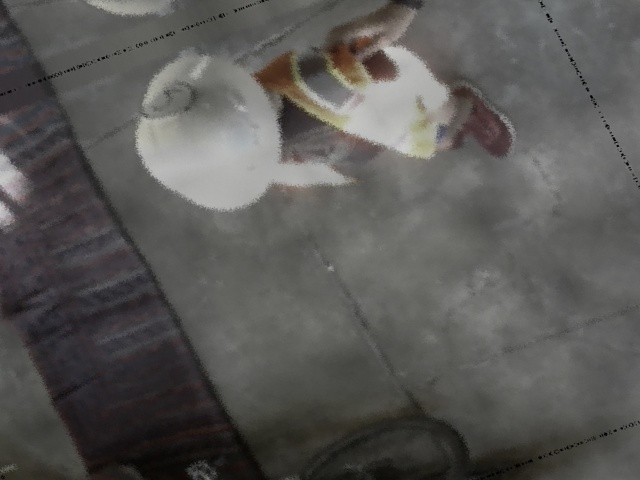two: (131, 77, 201, 125)
